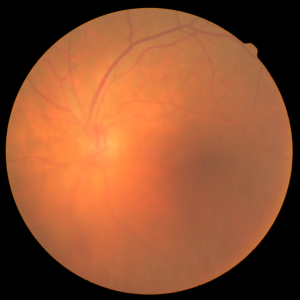cataract: (34, 83, 265, 208)
